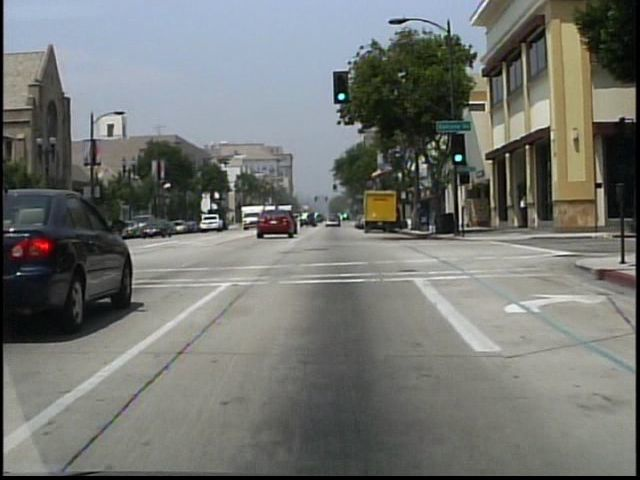person: (519, 195, 527, 229)
